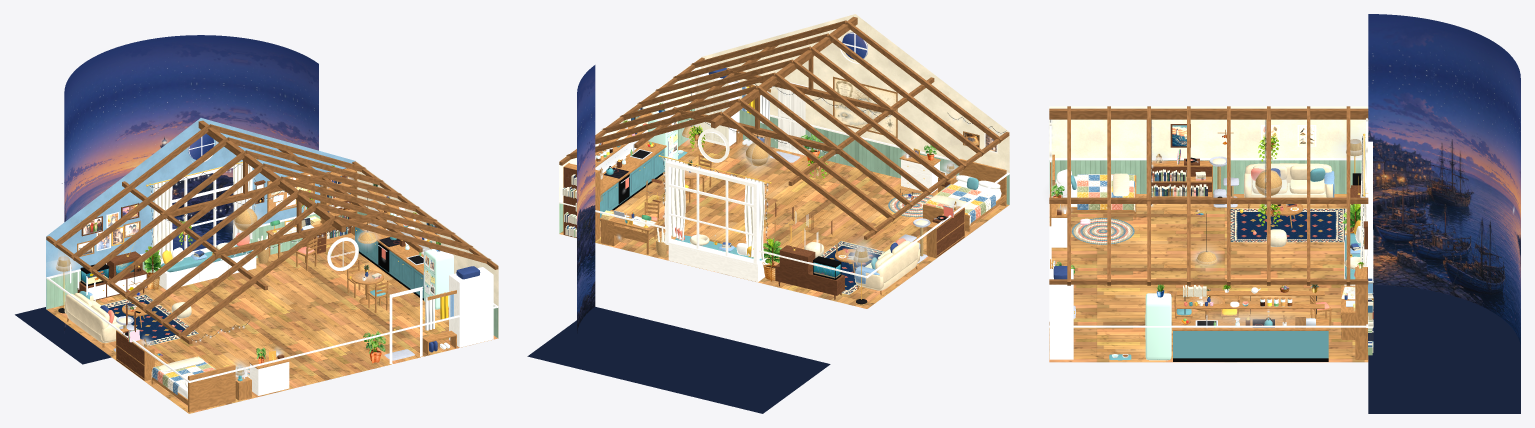
Rendered from eves_room.glb.
3 renders of one model, left to right at view 1: azimuth 30°, elevation 25°; view 2: azimuth 150°, elevation 25°; view 3: azimuth 270°, elevation 25°, orthographic. The views are drawn at different scales.
Visible parts, largest first — view 1: harbour, floor, beam, white_wood, wall_blue, oak, walnut, quay, wainscot, linen_oat, rug, white_wood_1s (+15 smaller); view 2: beam, floor, quay, wall, white_wood, oak, harbour, walnut, wainscot, chart_1s, linen_oat, cabinet (+17 smaller); view 3: harbour, floor, quay, beam, wall, oak, white_wood, teal_paint, rug, wainscot, linen_oat, spines (+17 smaller).
Boxes of the visible parts, left/top/right/bottom form: harbour: left=64, top=35, right=318, bottom=333; floor: left=46, top=238, right=497, bottom=413; beam: left=46, top=120, right=498, bottom=344; white_wood: left=46, top=162, right=498, bottom=395; wall_blue: left=46, top=118, right=355, bottom=308; oak: left=67, top=168, right=456, bottom=412; walnut: left=77, top=168, right=405, bottom=380; quay: left=15, top=307, right=111, bottom=364; wainscot: left=46, top=211, right=498, bottom=338; linen_oat: left=64, top=293, right=123, bottom=343; rug: left=101, top=294, right=198, bottom=345; white_wood_1s: left=70, top=136, right=423, bottom=364; beam: left=559, top=16, right=1009, bottom=239; floor: left=559, top=138, right=1008, bottom=308; quay: left=527, top=306, right=830, bottom=413; wall: left=559, top=14, right=1009, bottom=233; white_wood: left=559, top=66, right=1009, bottom=282; oak: left=563, top=84, right=1006, bottom=295; harbour: left=577, top=65, right=595, bottom=333; walnut: left=564, top=153, right=964, bottom=299; wainscot: left=559, top=108, right=1009, bottom=233; chart_1s: left=835, top=79, right=896, bottom=135; linen_oat: left=854, top=240, right=920, bottom=290; cabinet: left=600, top=149, right=664, bottom=217; harbour: left=1368, top=14, right=1520, bottom=348; floor: left=1049, top=194, right=1368, bottom=362; quay: left=1368, top=285, right=1520, bottom=413; beam: left=1049, top=106, right=1368, bottom=285; wall: left=1049, top=119, right=1368, bottom=157; oak: left=1049, top=154, right=1367, bottom=359; white_wood: left=1049, top=141, right=1373, bottom=359; teal_paint: left=1173, top=331, right=1328, bottom=358; rug: left=1230, top=208, right=1346, bottom=242; wainscot: left=1049, top=160, right=1366, bottom=193; linen_oat: left=1244, top=163, right=1332, bottom=204; spines: left=1151, top=169, right=1373, bottom=355.
Size of what is drawn, in the model's own units: 10.49 by 7.5 by 12.1.
90 materials, 61 textured.
